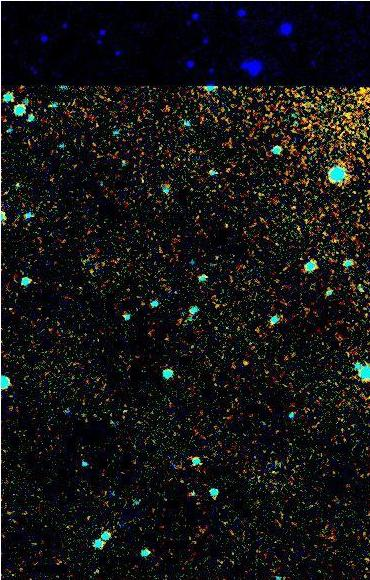star: (232, 346, 262, 376)
